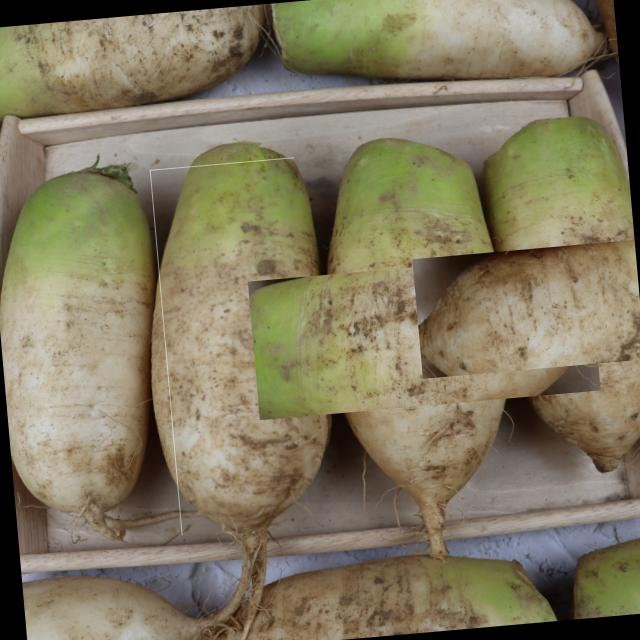radish: (293, 204, 554, 466), (150, 157, 326, 535), (454, 190, 640, 422)
